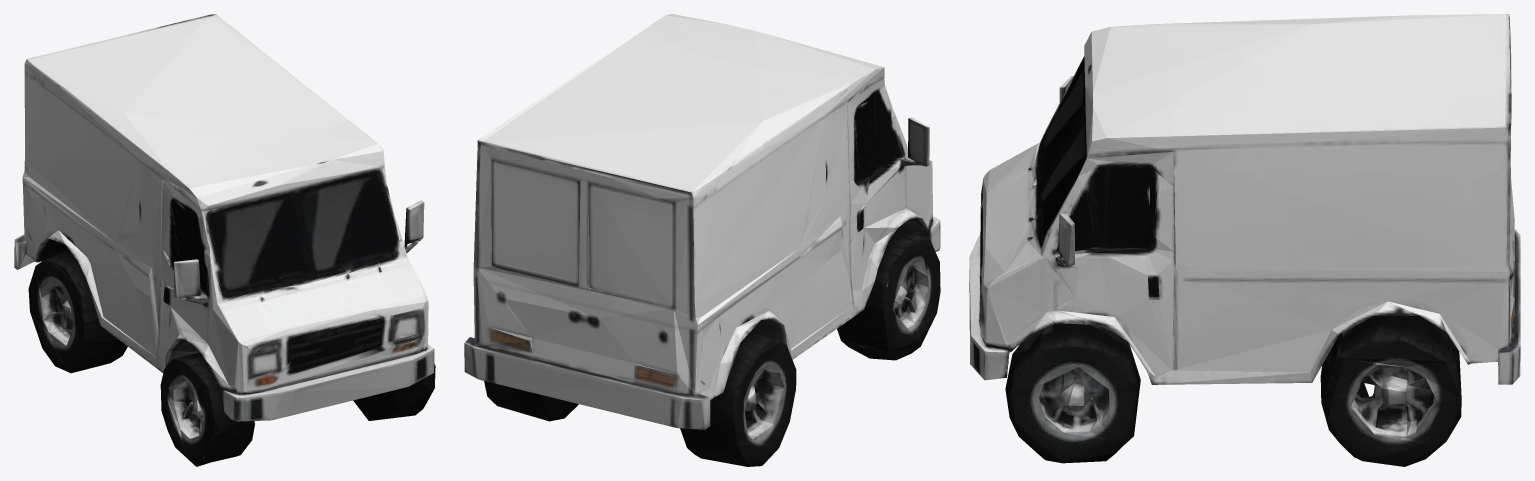
The model's file is van.glb.
3 views of the same model, side by side, from view 1: azimuth 30°, elevation 25°; view 2: azimuth 150°, elevation 25°; view 3: azimuth 270°, elevation 25° (orthographic). The views are drawn at different scales.
Visible parts, largest first — view 1: geometry_0; view 2: geometry_0; view 3: geometry_0.
Boxes of the visible parts, x1=… form: geometry_0: x1=14, y1=14, x2=435, y2=466; geometry_0: x1=464, y1=14, x2=940, y2=466; geometry_0: x1=969, y1=14, x2=1520, y2=466.
Bounding box in the file's own units: 3.18 × 3.33 × 4.95.
1 material, 1 textured.
